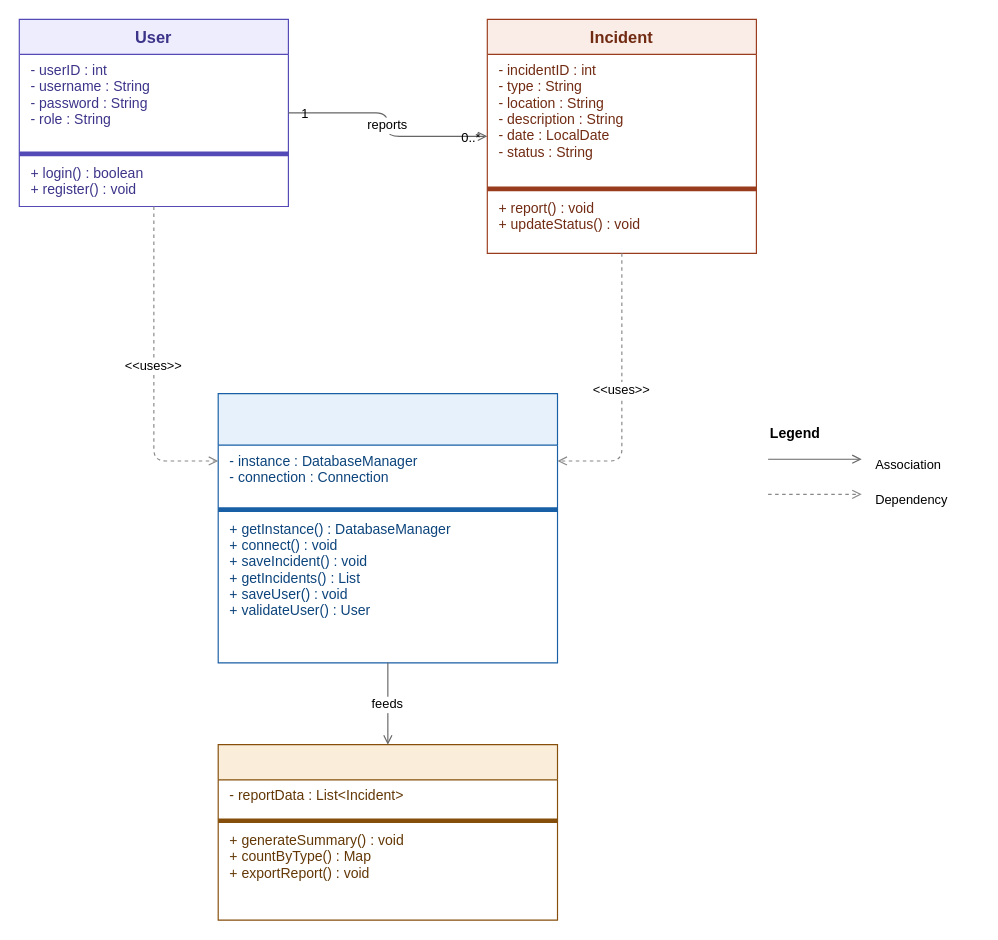
Image size: 998x940. Some labels were removed from this diagram. The shapes that lost their labels are listed below. From the top down, each one's box as (x1, y1, x2, y2) in pixels, then its label:
(217, 393, 558, 663): DatabaseManager «Singleton»
(217, 744, 558, 920): ReportGenerator
